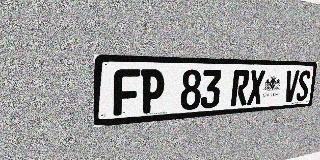3: (200, 70, 222, 109)
8: (180, 69, 203, 110)
F: (113, 69, 140, 116)
P: (140, 69, 165, 114)
R: (231, 70, 250, 106)
S: (296, 70, 311, 101)
V: (283, 70, 300, 102)
X: (247, 70, 265, 105)
